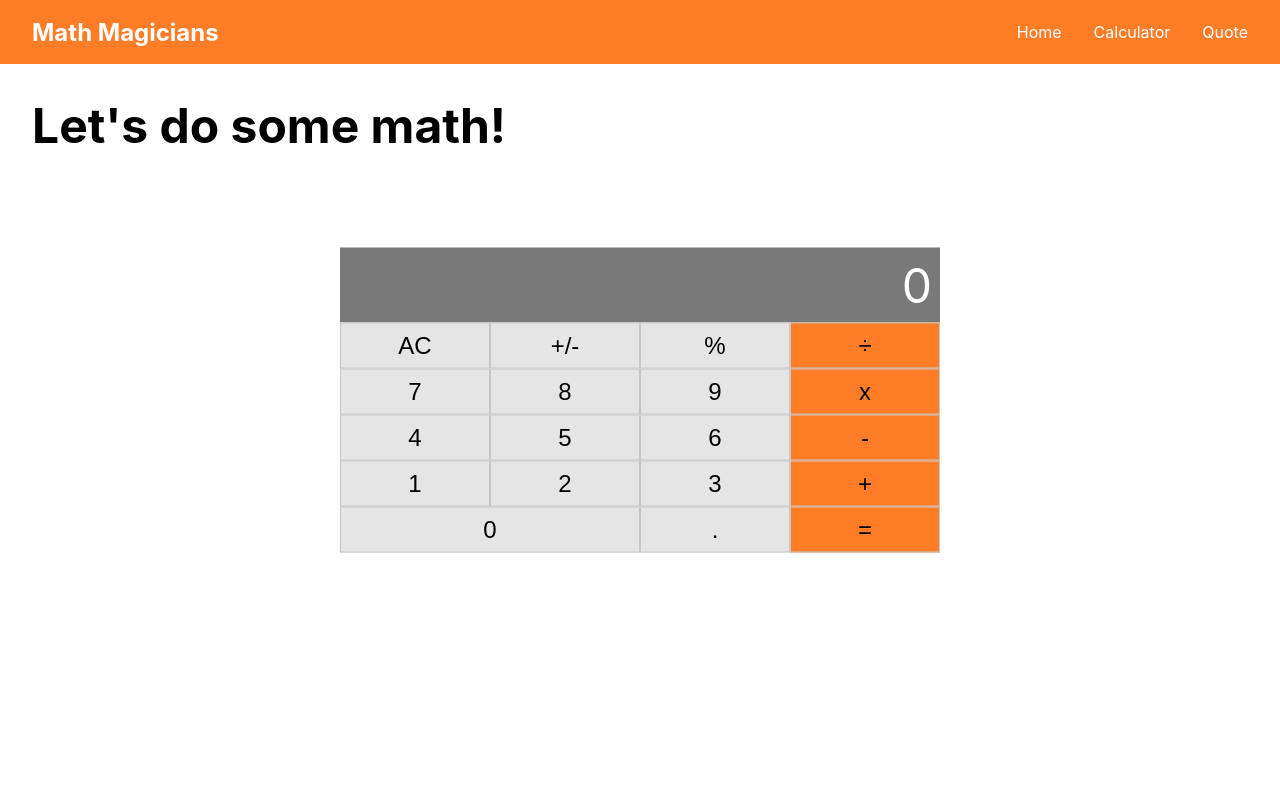
Scenario: Navbar tests › Navigate to Home page from Calculator page
What coordinates should you click on to do the following:
click the link with id "home-link"
I would click on:
 (1039, 32)
Its box is [1017,22,1062,42].
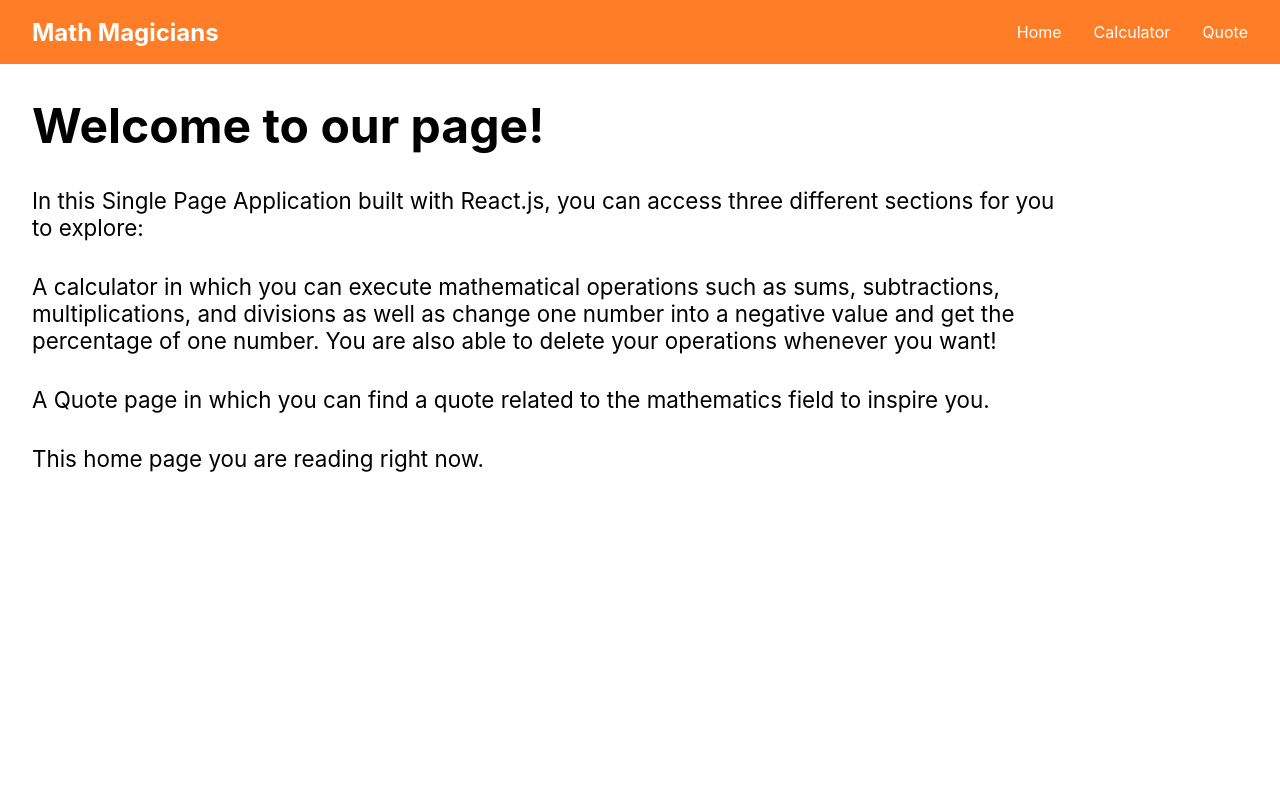
Check: the text "Welcome" is shown, box [32,96,544,155]
